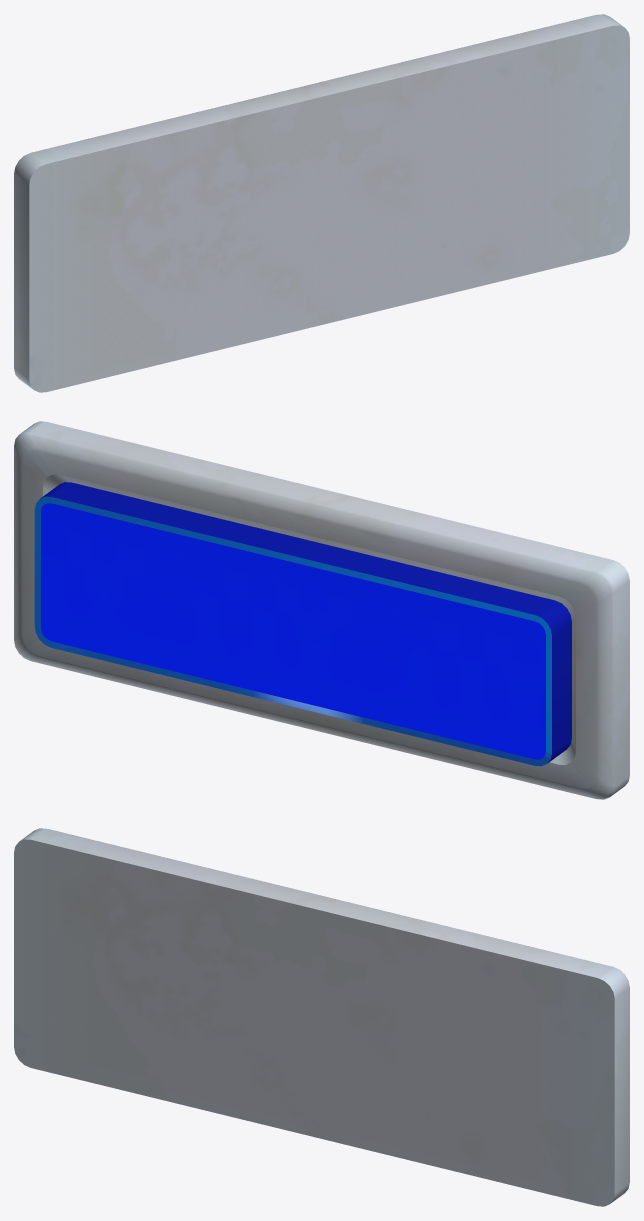
File: button_elevator.gltf
The picture shows the model from 3 angles, top to bottom: view 1: azimuth 30°, elevation 25°; view 2: azimuth 150°, elevation 25°; view 3: azimuth 330°, elevation 25°; orthographic projection.
Visible parts, largest first — view 1: button; view 2: button; view 3: button.
Boxes of the visible parts, x1,y1,x2,y2 form: button: [14, 14, 629, 392]; button: [14, 421, 629, 799]; button: [14, 828, 629, 1206].
Size of what is drawn, in the model's own units: 2.1 by 0.7626 by 0.2192.
Materials: 2 (2 with a texture image).
